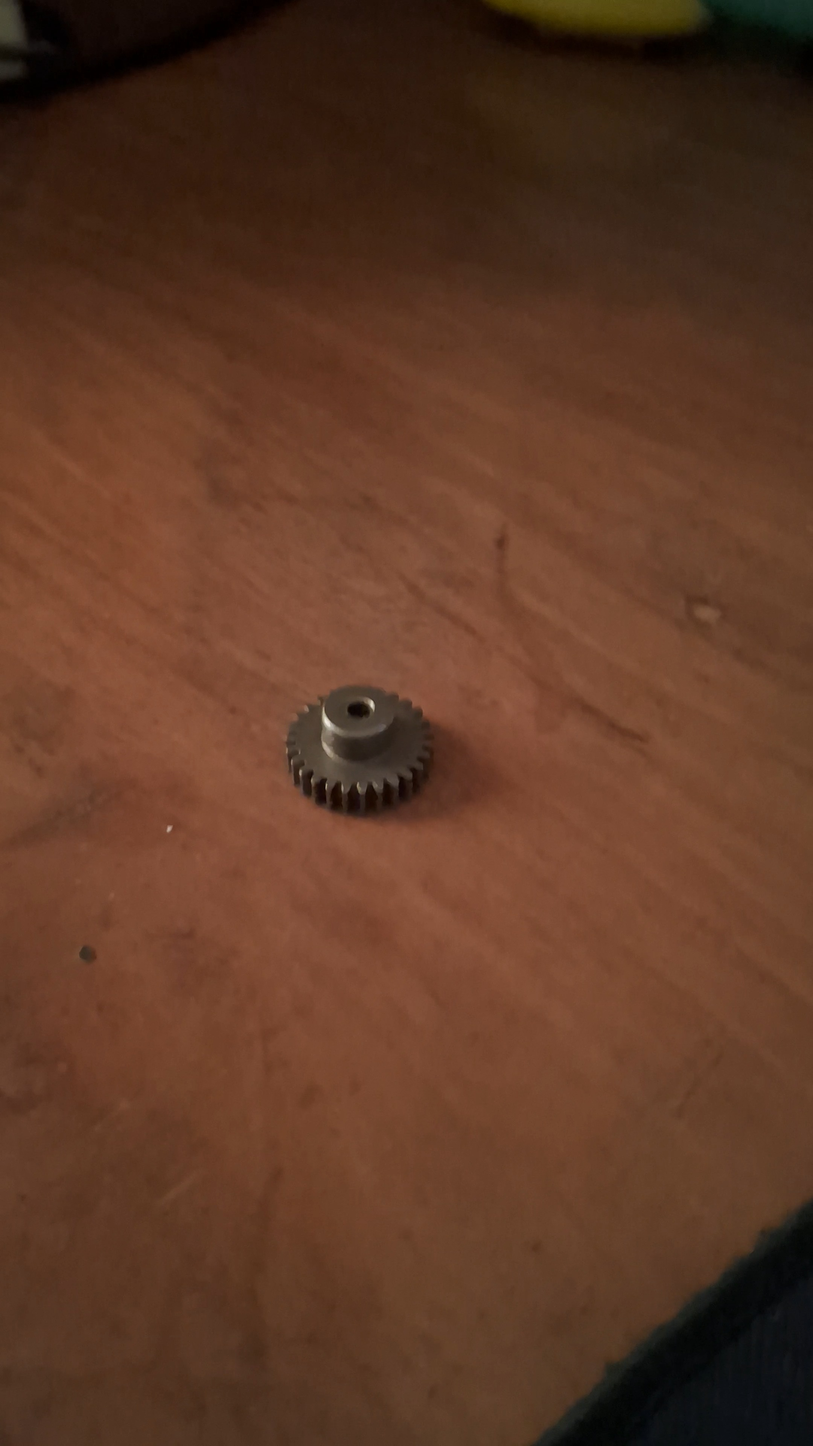spur gear: (287, 686, 432, 813)
